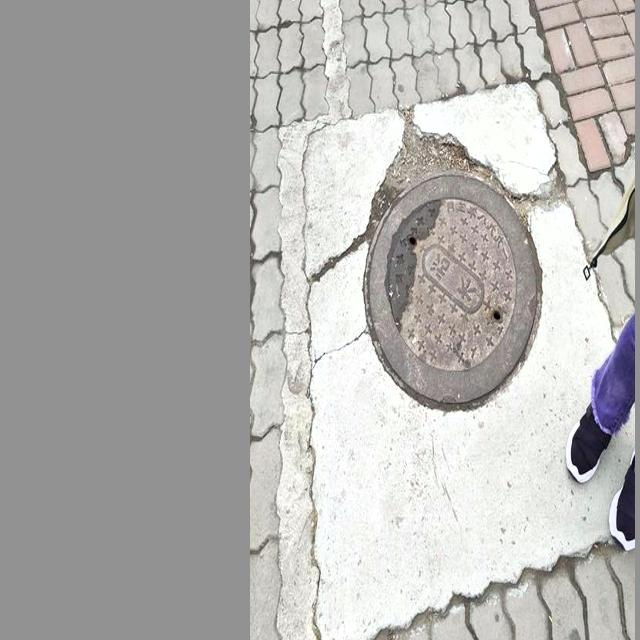circle: (319, 114, 577, 450)
